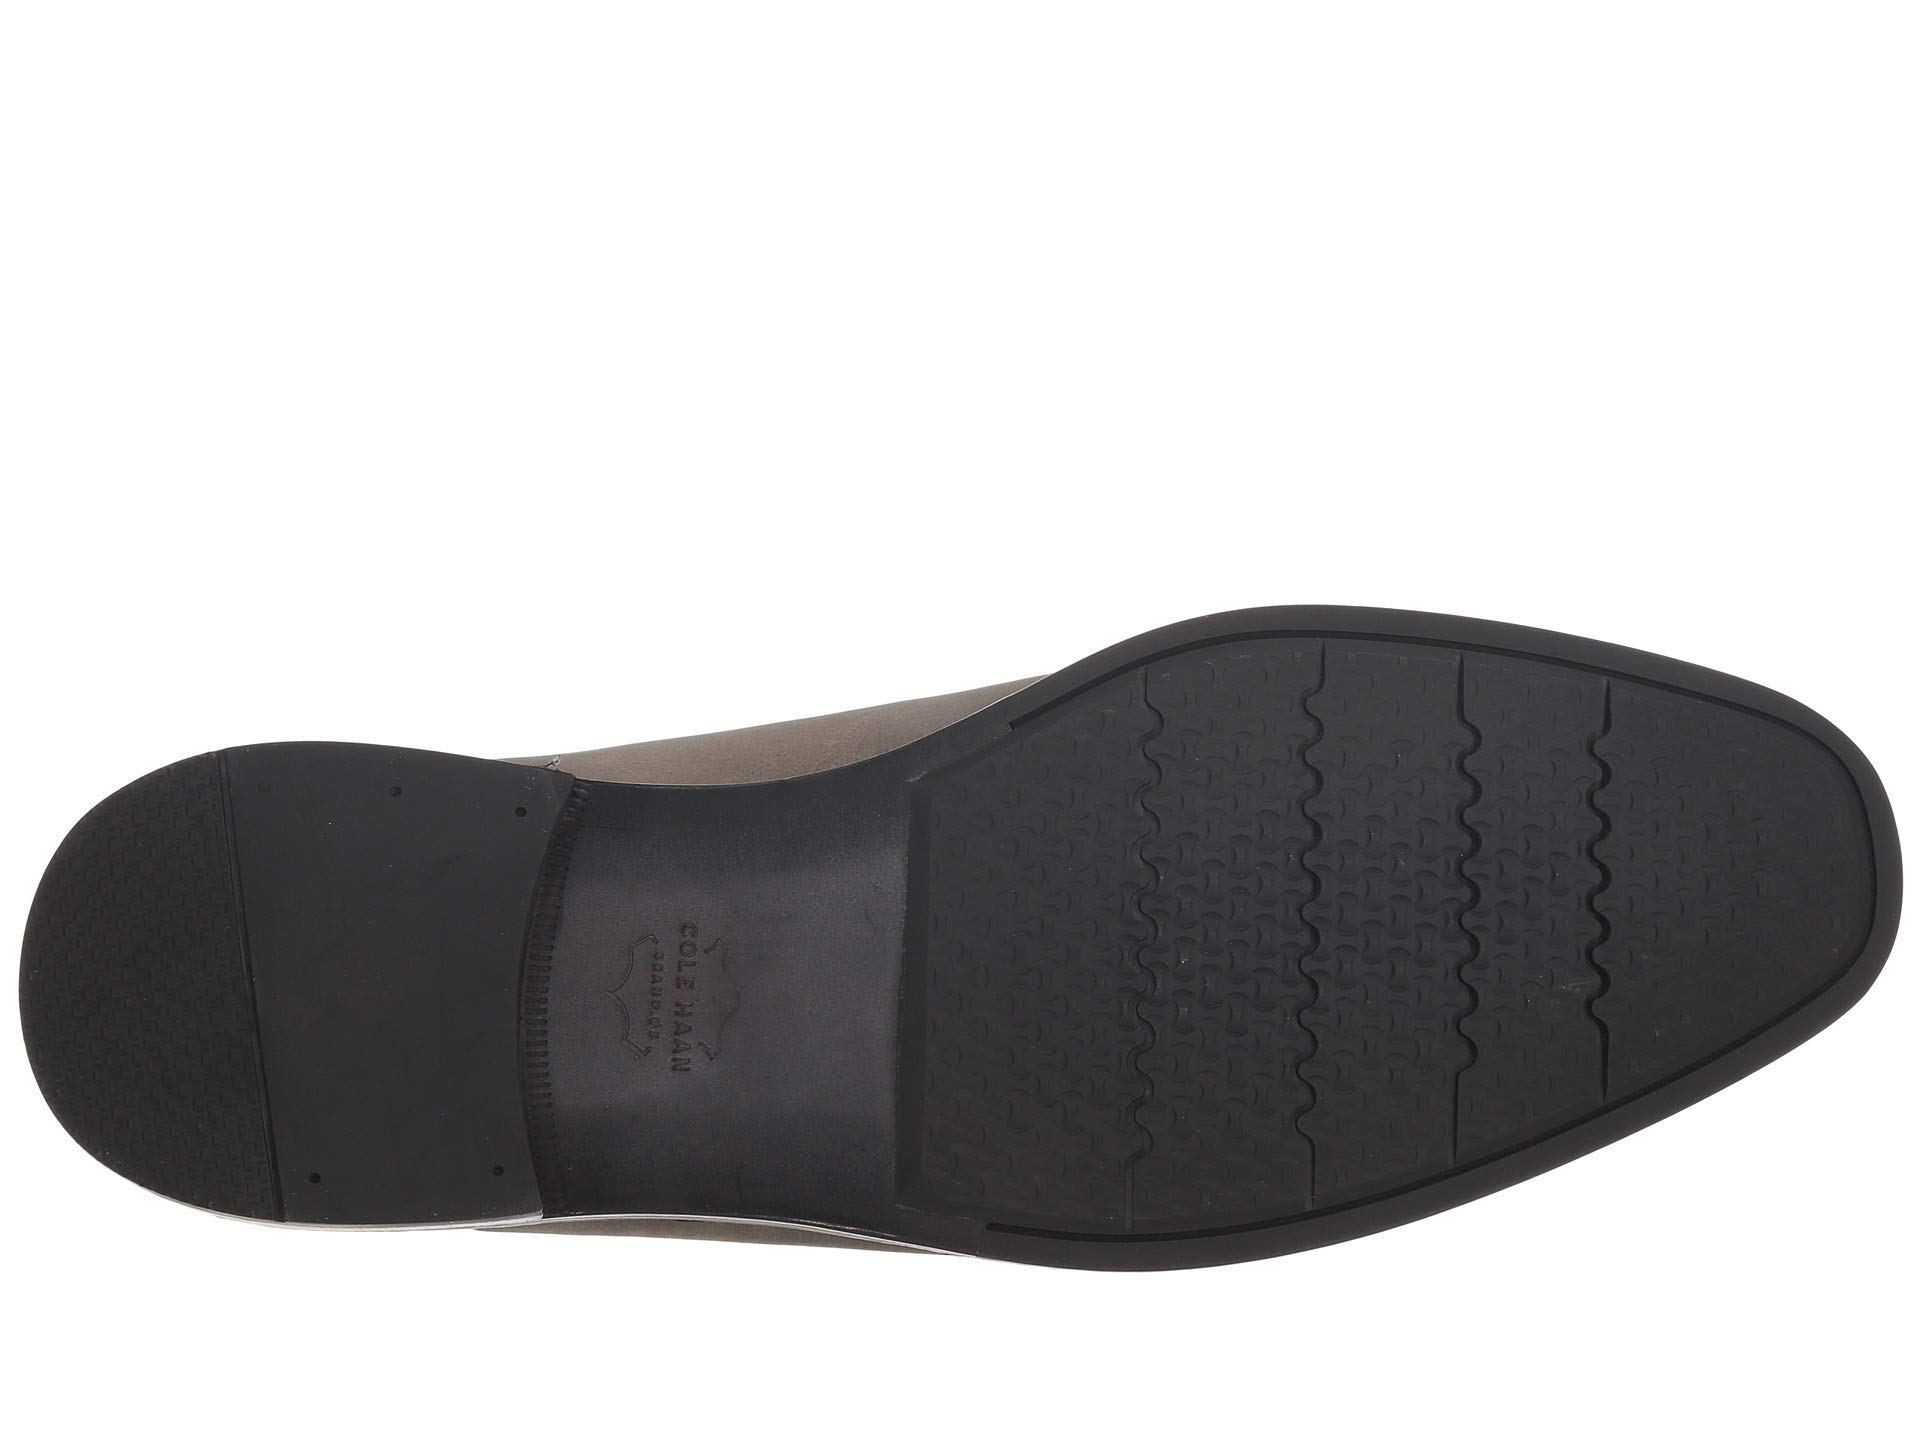bowtie: (1175, 681, 1281, 1199), (1317, 846, 1488, 1027), (1143, 898, 1308, 1056)
chevron: (1284, 649, 1356, 1221)
line: (1284, 649, 1356, 1221)
